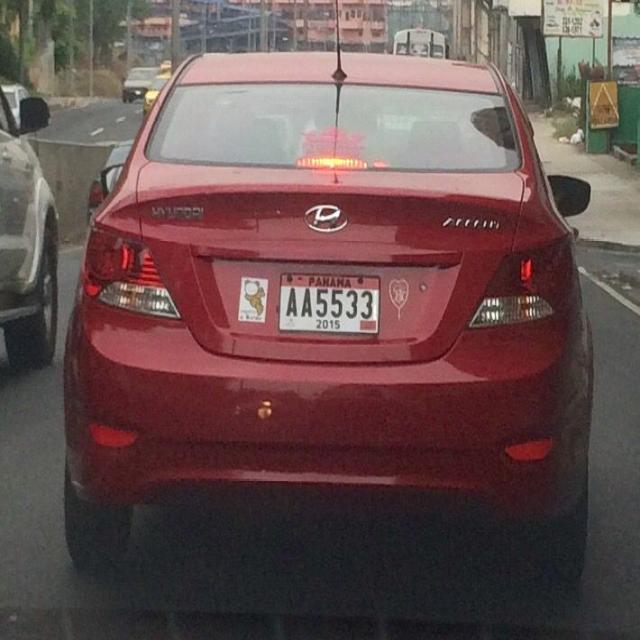Placas: (278, 266, 382, 347)
